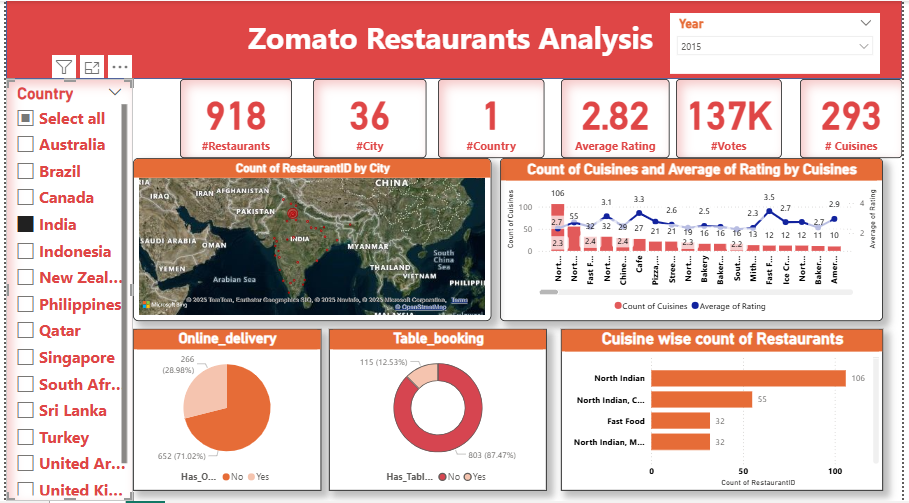

This screenshot's page, from the dashboard's own definition file:
{"tool":"powerbi","page":{"name":"Page 1","canvas":[1280,720],"ordinal":0},"visuals":[{"type":"shape","box":[0,0,1280.5,117.1],"z":0},{"type":"textbox","box":[248.8,23.4,784.4,68.8],"z":1000},{"type":"card","fields":{"Values":["CountNonNull(restaurants.RestaurantID)"]},"box":[248.8,117.1,159.5,112.7],"z":2000},{"type":"card","fields":{"Values":["Count(restaurants.City)"]},"box":[439,117.1,162.4,112.7],"z":3000},{"type":"card","fields":{"Values":["Sum(restaurants.Votes)"]},"box":[957.1,117.1,150.7,112.7],"z":4000},{"type":"card","fields":{"Values":["Avg(restaurants.Rating)"]},"box":[793.2,117.1,155.1,112.7],"z":5000},{"type":"card","fields":{"Values":["Count(restaurants.CountryCode)"]},"box":[617.6,117.1,152.2,112.7],"z":6000},{"type":"card","fields":{"Values":["Count(restaurants.Cuisines)"]},"box":[1134.1,117.1,146.3,112.7],"z":7000},{"type":"slicer","fields":{"Values":["Countries.country name"]},"box":[0,117.1,181.5,602.9],"z":8000},{"type":"lineStackedColumnComboChart","fields":{"Category":["restaurants.Cuisines"],"Y":["CountNonNull(restaurants.Cuisines)"],"Y2":["Avg(restaurants.Rating)"]},"box":[705.4,229.8,547.3,232.7],"z":9000},{"type":"map","fields":{"Size":["CountNonNull(restaurants.RestaurantID)"],"Category":["restaurants.City"]},"box":[181.5,229.8,512.2,232.7],"z":10000},{"type":"clusteredBarChart","title":"Cuisine wise count of  Restaurants","fields":{"Category":["restaurants.Cuisines"],"Y":["CountNonNull(restaurants.RestaurantID)"]},"box":[792.9,474.3,460,231.4],"z":11000},{"type":"pieChart","title":"Online_delivery","fields":{"Category":["restaurants.Has_Online_delivery"],"Y":["CountNonNull(restaurants.RestaurantID)"]},"box":[181.4,474.3,268.6,231.4],"z":12000},{"type":"donutChart","title":"Table_booking","fields":{"Category":["restaurants.Has_Table_booking"],"Y":["CountNonNull(restaurants.RestaurantID)"]},"box":[461.4,474.3,311.4,231.4],"z":13000},{"type":"slicer","fields":{"Values":["restaurants.Datekey_Opening.Variation.Date Hierarchy.Year"]},"box":[948.6,22.9,300,87.1],"z":14000}]}

Visuals, with their boxes in screenshot pixels (x1, y1, x2, y2):
shape: left=0, top=0, right=880, bottom=78
textbox: left=171, top=14, right=710, bottom=61
card - CountNonNull(restaurants.RestaurantID): left=171, top=78, right=281, bottom=156
card - Count(restaurants.City): left=302, top=78, right=413, bottom=156
card - Sum(restaurants.Votes): left=658, top=78, right=761, bottom=156
card - Avg(restaurants.Rating): left=545, top=78, right=652, bottom=156
card - Count(restaurants.CountryCode): left=425, top=78, right=529, bottom=156
card - Count(restaurants.Cuisines): left=780, top=78, right=880, bottom=156
slicer - Countries.country name: left=0, top=78, right=125, bottom=493
lineStackedColumnComboChart - restaurants.Cuisines x CountNonNull(restaurants.Cuisines): left=485, top=156, right=861, bottom=316
map - CountNonNull(restaurants.RestaurantID) x restaurants.City: left=125, top=156, right=477, bottom=316
"Cuisine wise count of  Restaurants" clusteredBarChart: left=545, top=324, right=861, bottom=483
"Online_delivery" pieChart: left=125, top=324, right=309, bottom=483
"Table_booking" donutChart: left=317, top=324, right=531, bottom=483
slicer - restaurants.Datekey_Opening.Variation.Date Hierarchy.Year: left=652, top=13, right=858, bottom=73
